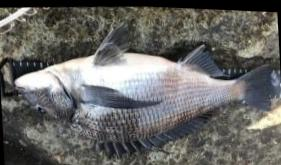fish: (14, 21, 273, 160)
